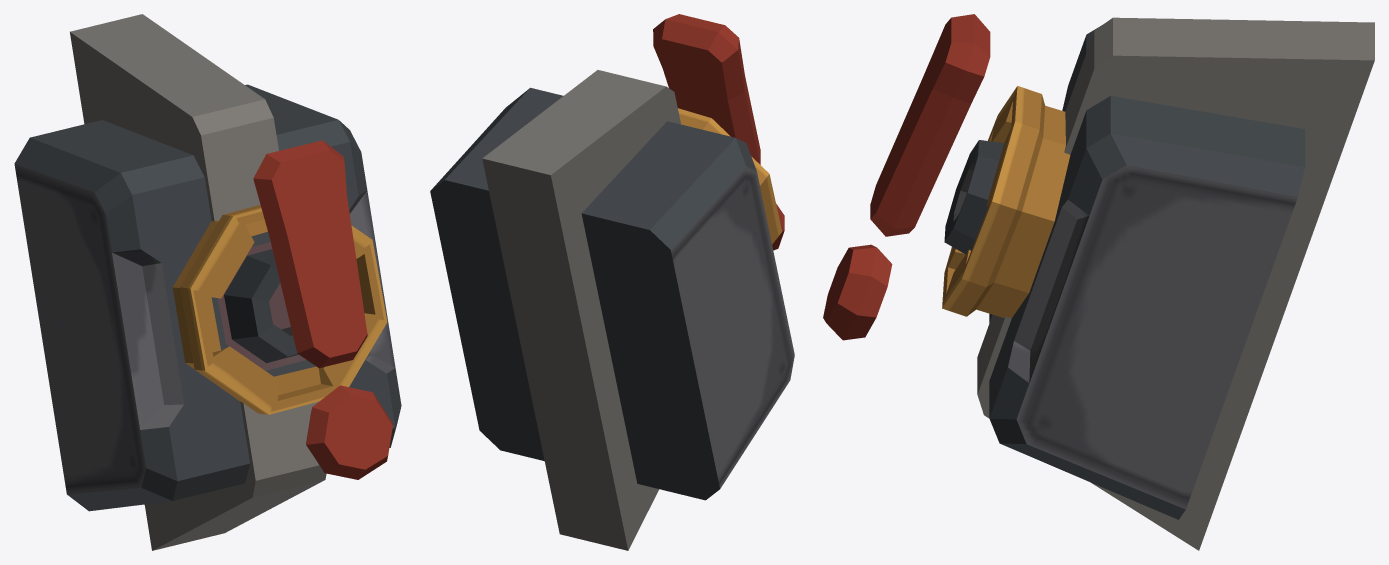
File: SM_Prop_Pipe_Attatchment_03.fbx
3 renders of one model, left to right at view 1: azimuth 30°, elevation 25°; view 2: azimuth 150°, elevation 25°; view 3: azimuth 270°, elevation 25°, orthographic. The views are drawn at different scales.
Parts seen in each view (by area): view 1: SM_Prop_Pipe_Attatchment_03, SM_Prop_Pipe_Attatchment_Warning_Holo; view 2: SM_Prop_Pipe_Attatchment_03, SM_Prop_Pipe_Attatchment_Warning_Holo; view 3: SM_Prop_Pipe_Attatchment_03, SM_Prop_Pipe_Attatchment_Warning_Holo.
Boxes of the visible parts, x1,y1,x2,y2 form: SM_Prop_Pipe_Attatchment_03: (14, 14, 401, 550); SM_Prop_Pipe_Attatchment_Warning_Holo: (253, 140, 392, 479); SM_Prop_Pipe_Attatchment_03: (430, 70, 794, 550); SM_Prop_Pipe_Attatchment_Warning_Holo: (653, 14, 784, 250); SM_Prop_Pipe_Attatchment_03: (942, 17, 1374, 550); SM_Prop_Pipe_Attatchment_Warning_Holo: (823, 14, 990, 340).
Bounding box in the file's own units: 49.61 × 87.52 × 86.87.
